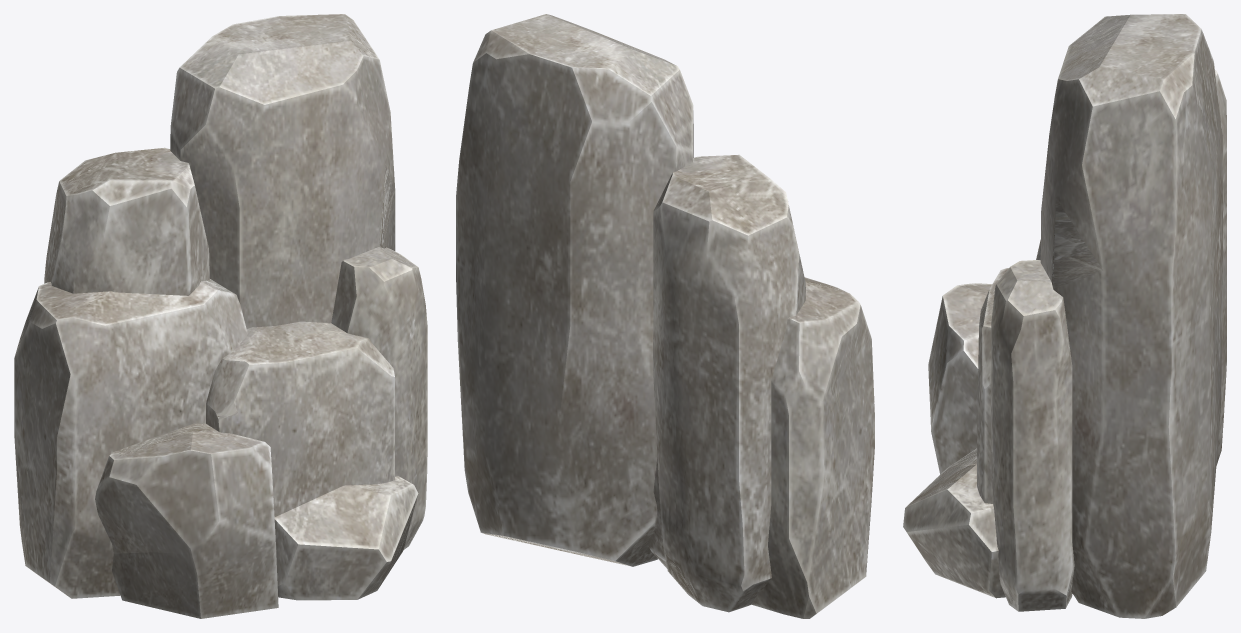
File: tall_rockgroup_6_dream.glb
3 views of the same model, side by side, from view 1: azimuth 30°, elevation 25°; view 2: azimuth 150°, elevation 25°; view 3: azimuth 270°, elevation 25° (orthographic). The views are drawn at different scales.
Visible parts, largest first — view 1: tall_rockgroup_6; view 2: tall_rockgroup_6; view 3: tall_rockgroup_6.
Part boxes in pixels (box(x1,y1,x2,y2)): tall_rockgroup_6: box(14, 14, 427, 618); tall_rockgroup_6: box(456, 14, 874, 618); tall_rockgroup_6: box(903, 14, 1226, 618).
Size of the model in its own units: 62.34 by 82.35 by 44.43.
Materials: 1 (1 with a texture image).
